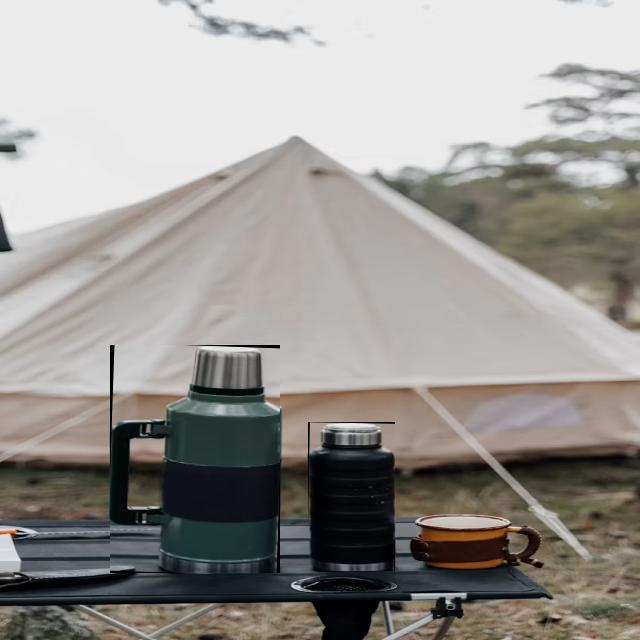Bottle: (110, 345, 280, 573), (309, 423, 394, 570)
